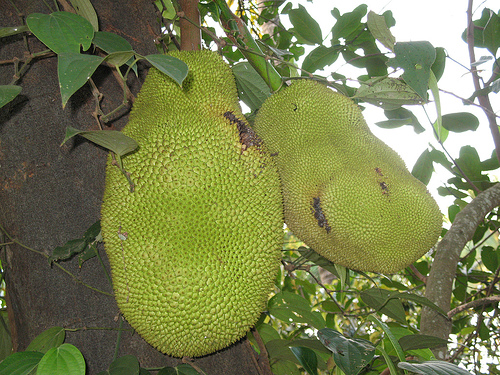jackfruit: (97, 51, 285, 359), (251, 75, 445, 278)
